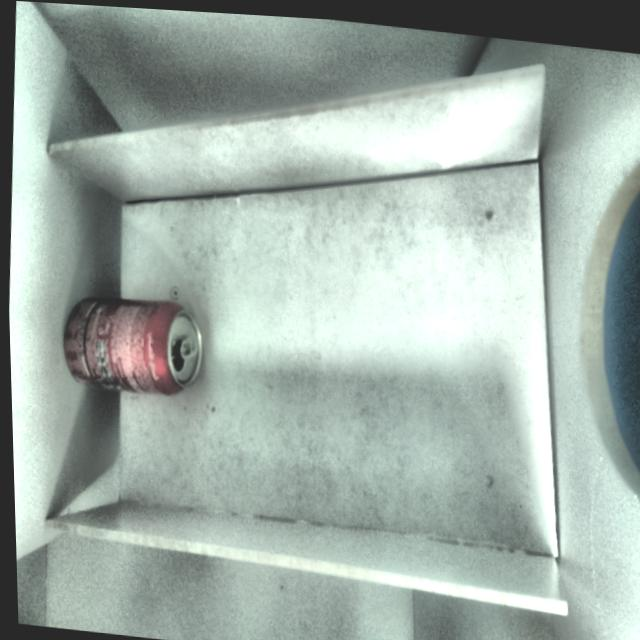Cans: (59, 286, 209, 399)
